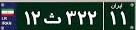character: (41, 9, 63, 30), (87, 6, 99, 27), (64, 8, 77, 27), (30, 7, 41, 28), (77, 6, 87, 27), (107, 10, 117, 29), (119, 9, 129, 28), (24, 7, 31, 29)
